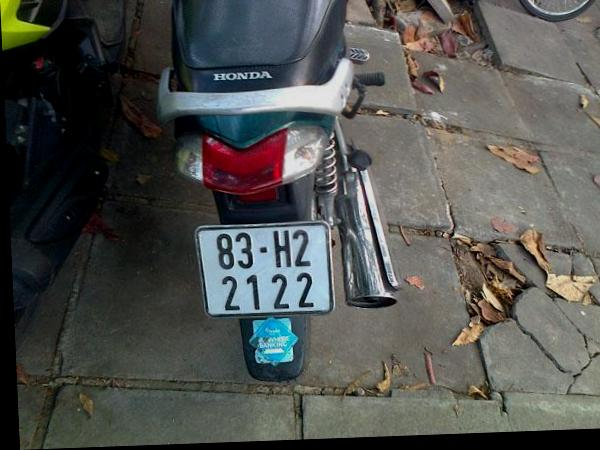License_Plate: (201, 222, 330, 317)
